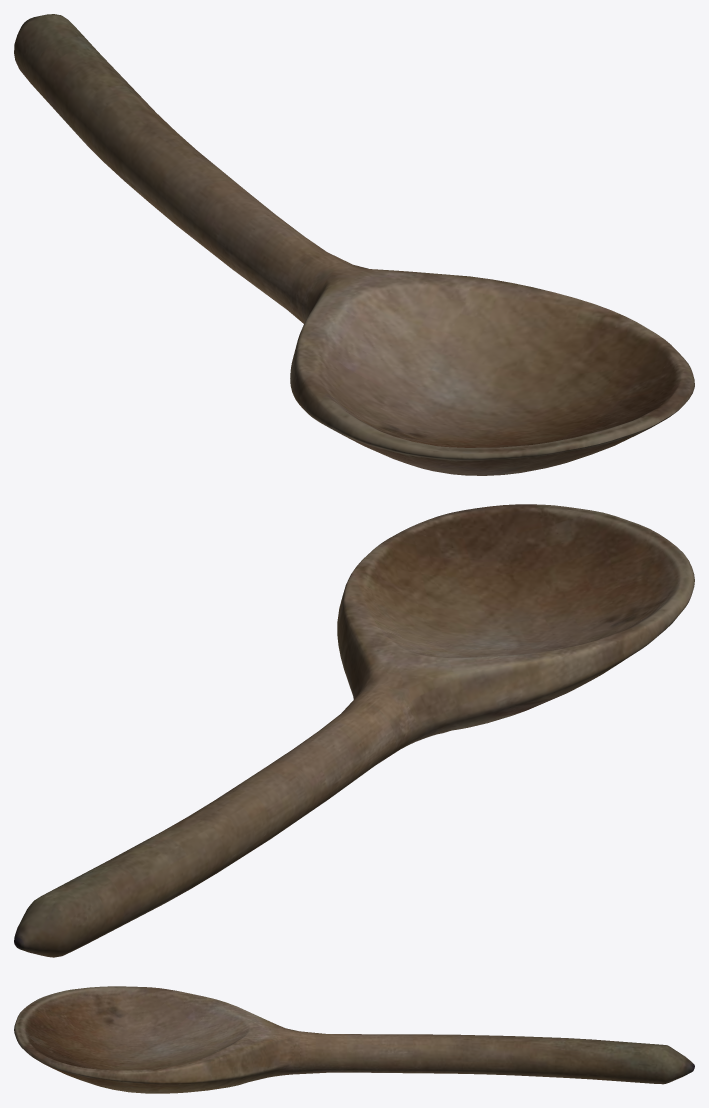
Rendered from wooden_spoon.glb.
3 views of the same model, one above another, from view 1: azimuth 30°, elevation 25°; view 2: azimuth 150°, elevation 25°; view 3: azimuth 270°, elevation 25° (orthographic). The views are drawn at different scales.
Parts seen in each view (by area): view 1: wooden_spoon; view 2: wooden_spoon; view 3: wooden_spoon.
Boxes of the visible parts, x1,y1,x2,y2 form: wooden_spoon: [14, 14, 694, 475]; wooden_spoon: [14, 504, 694, 957]; wooden_spoon: [14, 986, 694, 1093].
Bounding box in the file's own units: 0.0866 × 0.0251 × 0.2776.
1 material, 1 textured.
